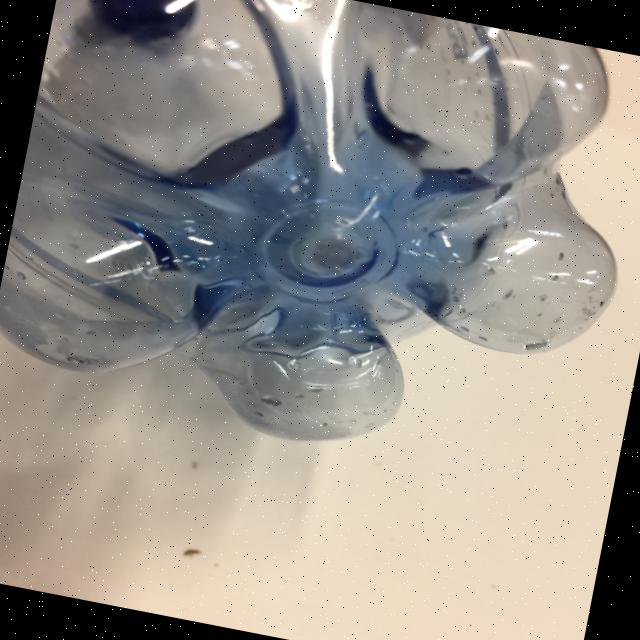plastic: (0, 0, 640, 496)
